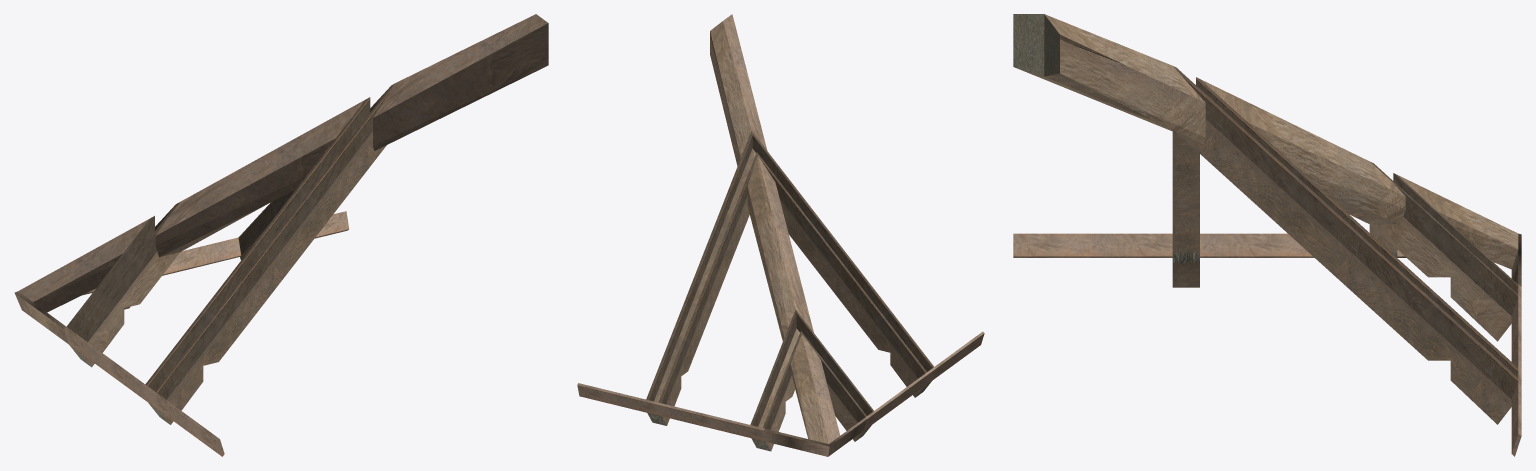
File: RafterCornerCapD.fbx
3 renders of one model, left to right at view 1: azimuth 30°, elevation 25°; view 2: azimuth 150°, elevation 25°; view 3: azimuth 270°, elevation 25°, orthographic. The views are drawn at different scales.
Visible parts, largest first — view 1: RafterCornerCapD; view 2: RafterCornerCapD; view 3: RafterCornerCapD.
Part boxes in pixels (box(x1,y1,x2,y2)): RafterCornerCapD: box(14, 14, 548, 456); RafterCornerCapD: box(577, 14, 984, 456); RafterCornerCapD: box(1013, 14, 1521, 456).
Size of the model in its own units: 480 by 500 by 495.
